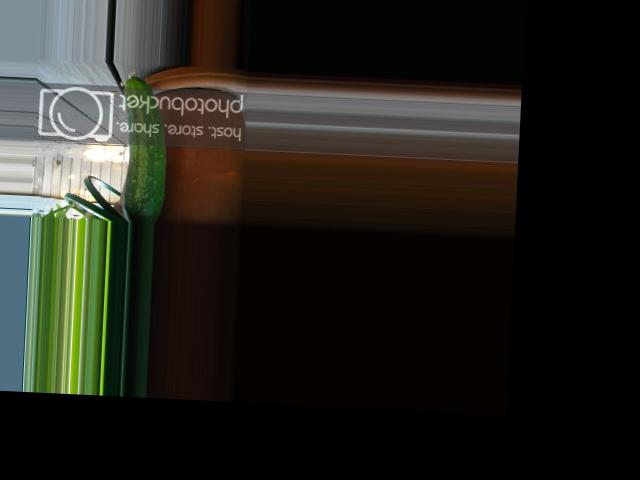cucumber: (117, 69, 170, 222)
